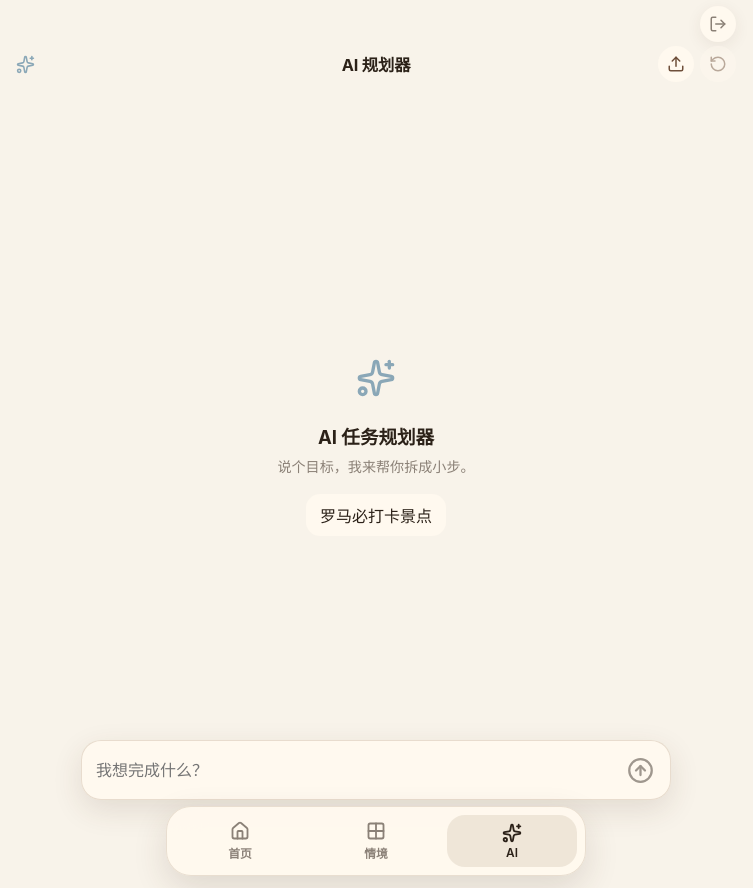
AI planner page › shows the empty state, user and assistant turns, and sends clicked options
expect the text "说个目标，我来帮你拆成小步。" is shown: met, box [277,458,474,474]
Step 1. Type "帮我安排旅行" into the text box named "告诉 AI 你的目标" → point(354, 770), box [96,749,611,791]
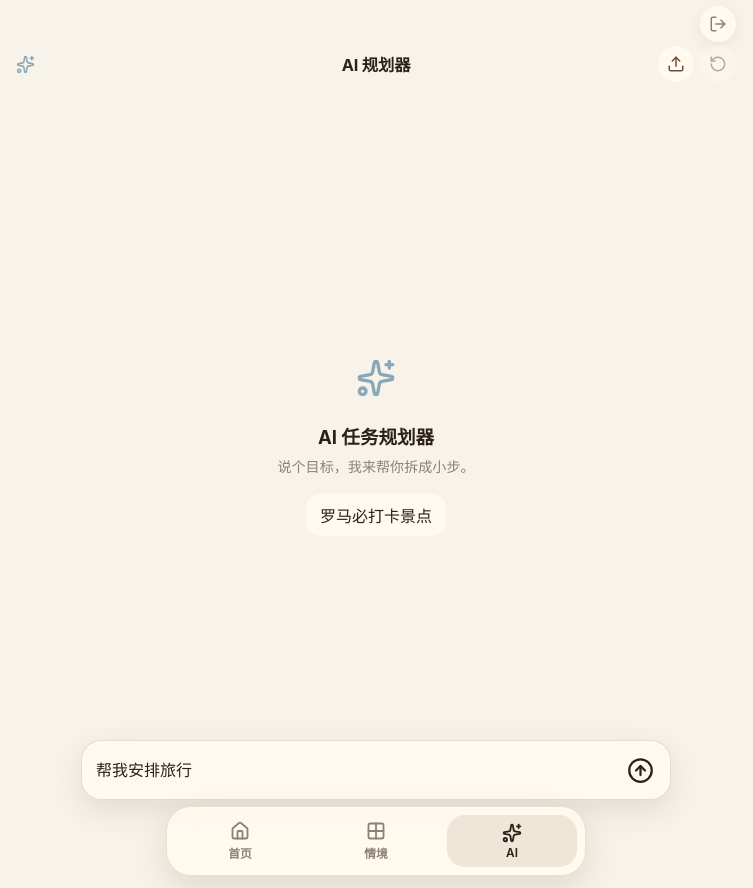
Step 2. Click the button named "发送" → point(640, 770), box [619,749,661,791]
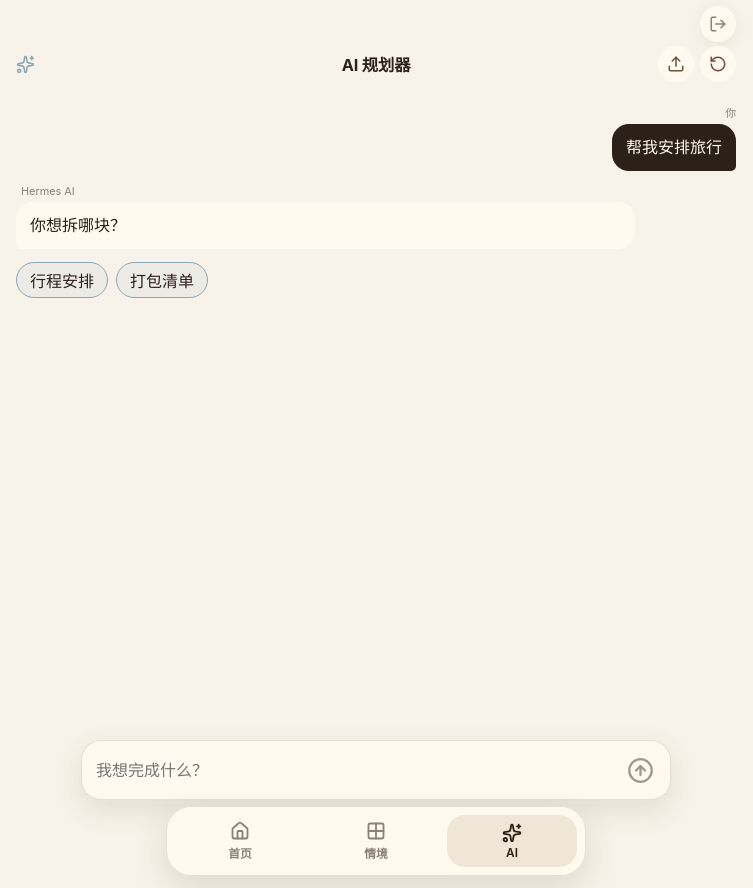
expect the text "你想拆哪块？" is shown: met, box [30,215,126,235]
expect the text "帮我安排旅行" is shown: met, box [626,137,722,157]
Step 3. Click the button "行程安排" → point(62, 280), box [16,262,108,298]
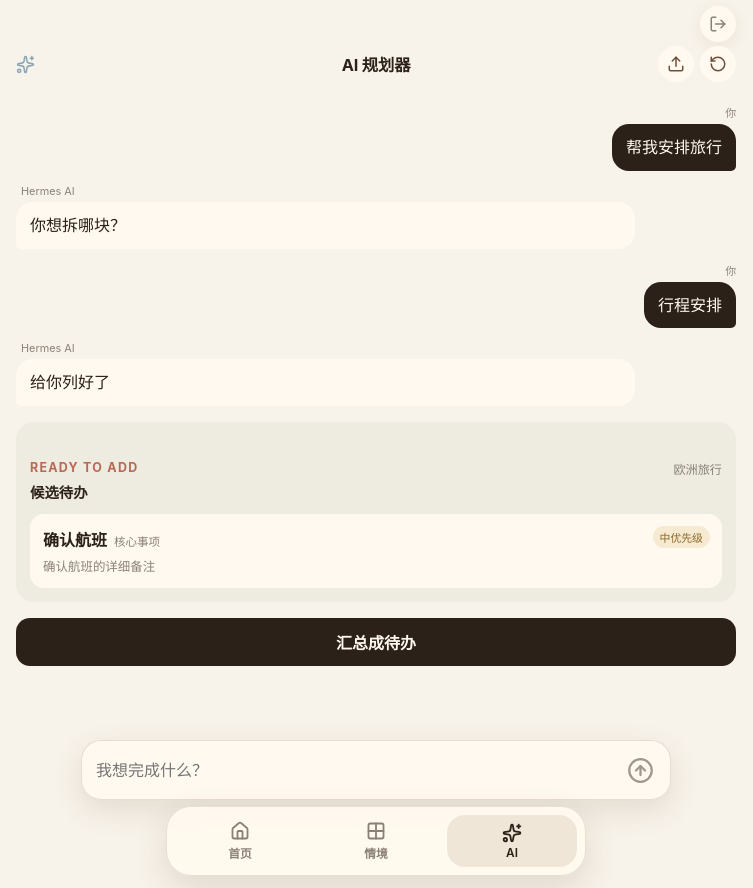
expect the text "给你列好了" is shown: met, box [30,372,110,392]
expect the text "确认航班" is shown: met, box [43,530,107,550]
